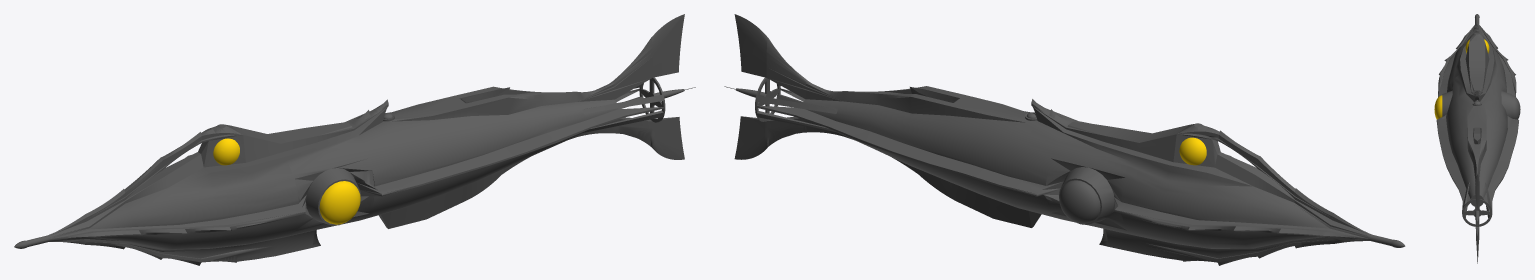
Rendered from nautilus-light.glb.
The picture shows the model from 3 angles, left to right: view 1: azimuth 30°, elevation 25°; view 2: azimuth 150°, elevation 25°; view 3: azimuth 270°, elevation 25°; orthographic projection. The views are drawn at different scales.
Visible parts, largest first — view 1: Group_001; view 2: Group_001; view 3: Group_001.
Part boxes in pixels (x1,y1,x2,y2): Group_001: [14, 14, 695, 265]; Group_001: [724, 14, 1405, 265]; Group_001: [1434, 14, 1520, 263].
Bounding box in the file's own units: 5.52 × 1.14 × 0.9681.
